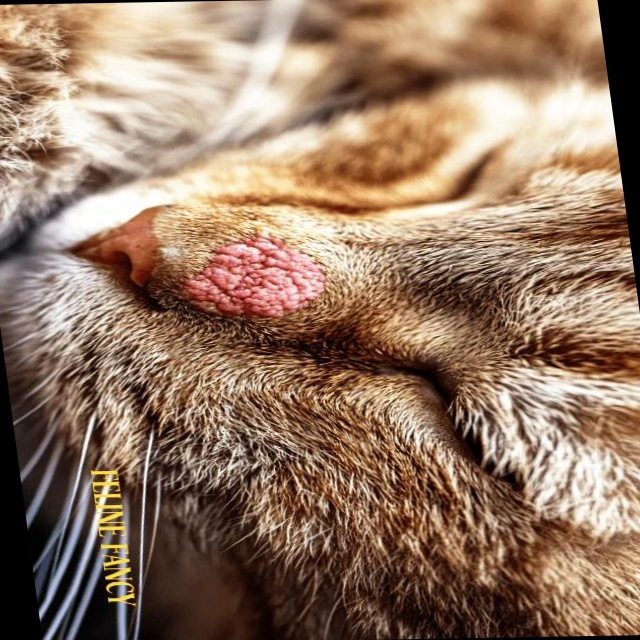lump_and_bump: (175, 239, 333, 318)
